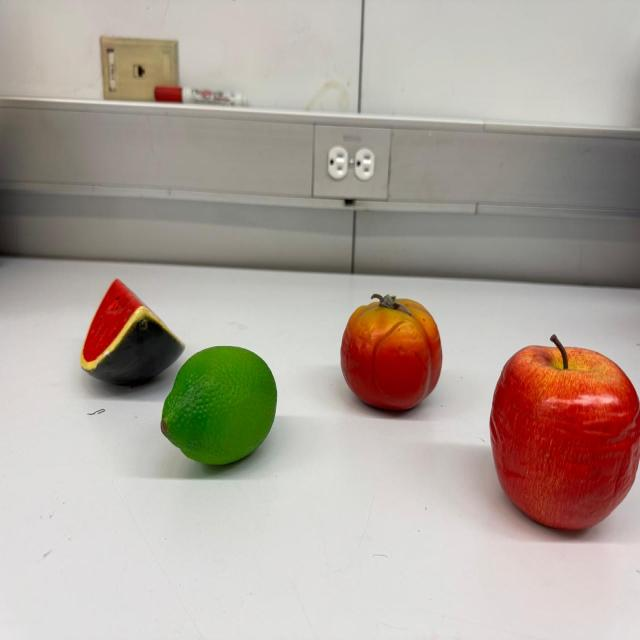apple: (488, 331, 640, 532)
lemon: (160, 346, 278, 465)
tomato: (340, 292, 442, 410)
watermelon: (79, 278, 184, 387)
